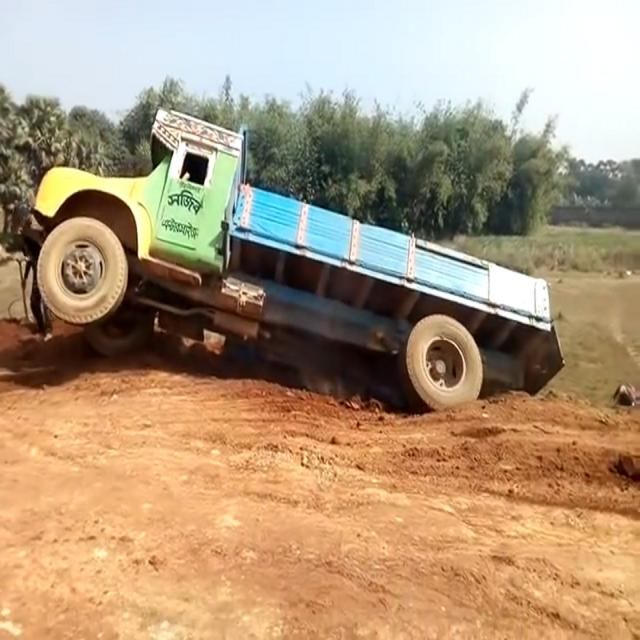truck: (14, 88, 581, 452)
